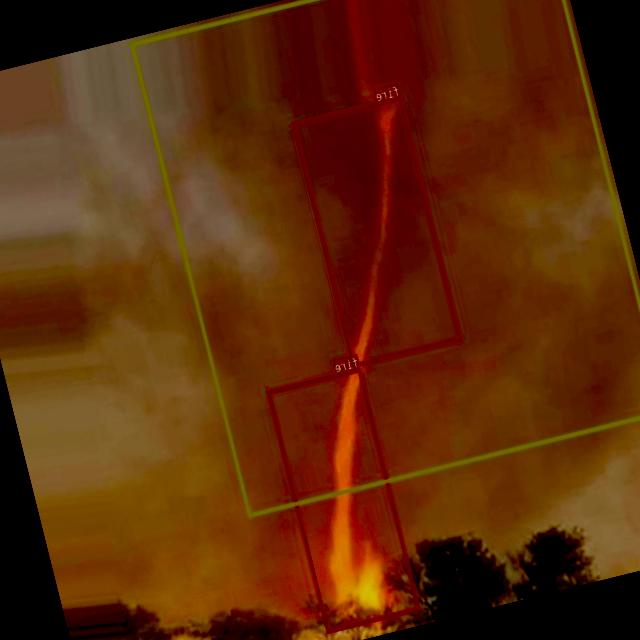fire: (292, 95, 462, 366), (266, 366, 421, 632)
smoke: (130, 0, 640, 516)
